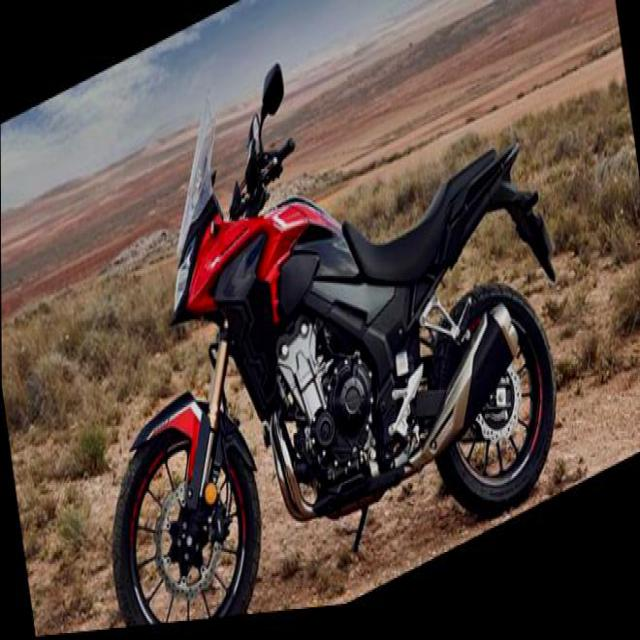CB500X: (55, 0, 569, 633)
